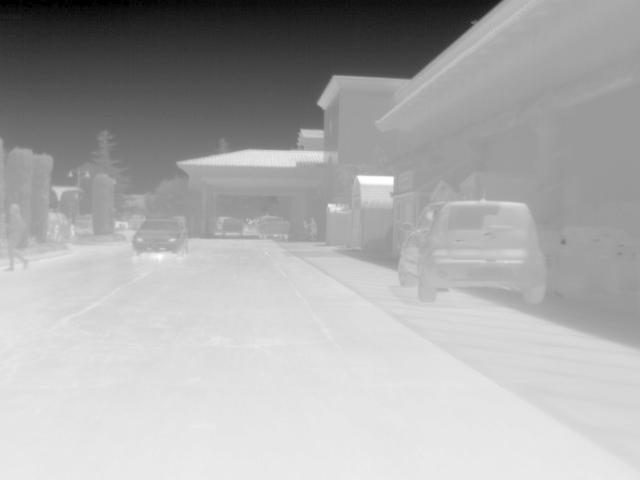car: (399, 196, 550, 306), (129, 214, 188, 258), (45, 209, 76, 242), (258, 215, 291, 240), (219, 218, 248, 236)
person: (1, 203, 27, 273), (306, 215, 318, 237)
